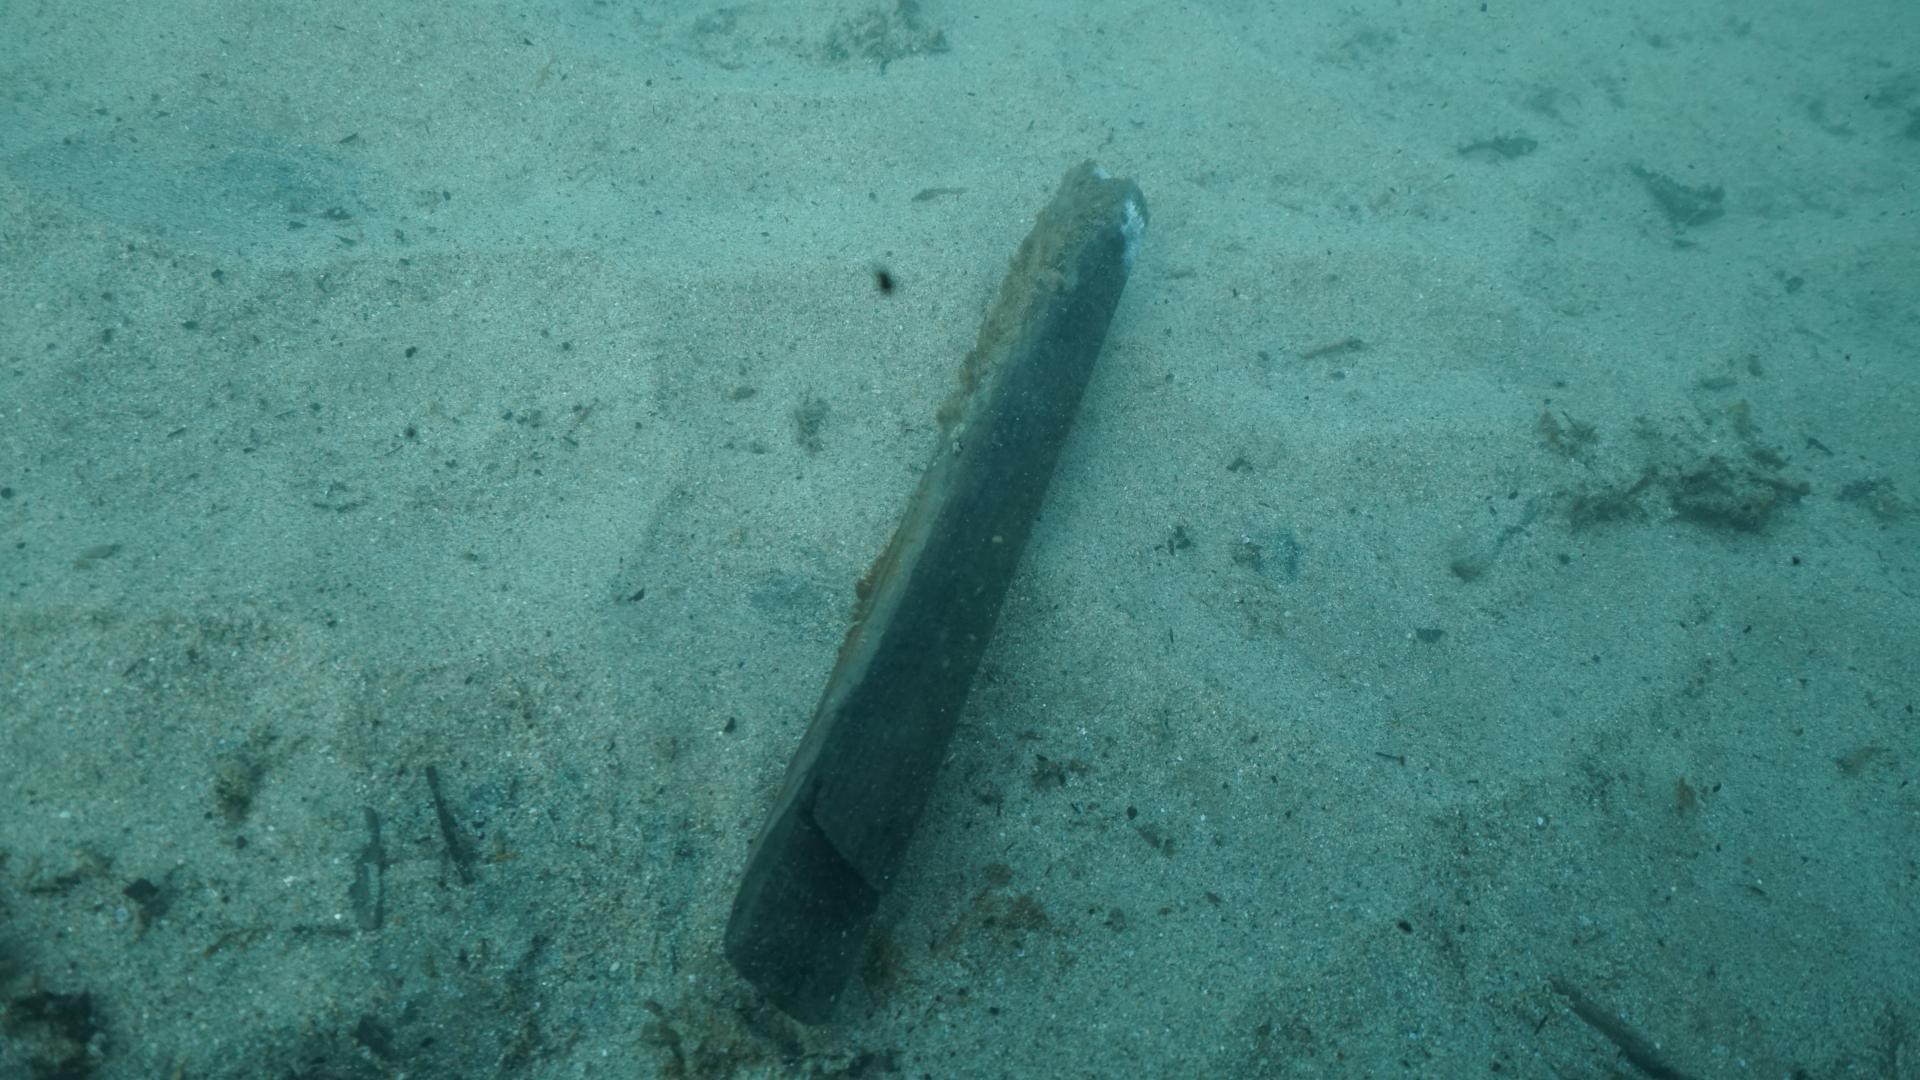wood: (723, 158, 1143, 1027)
